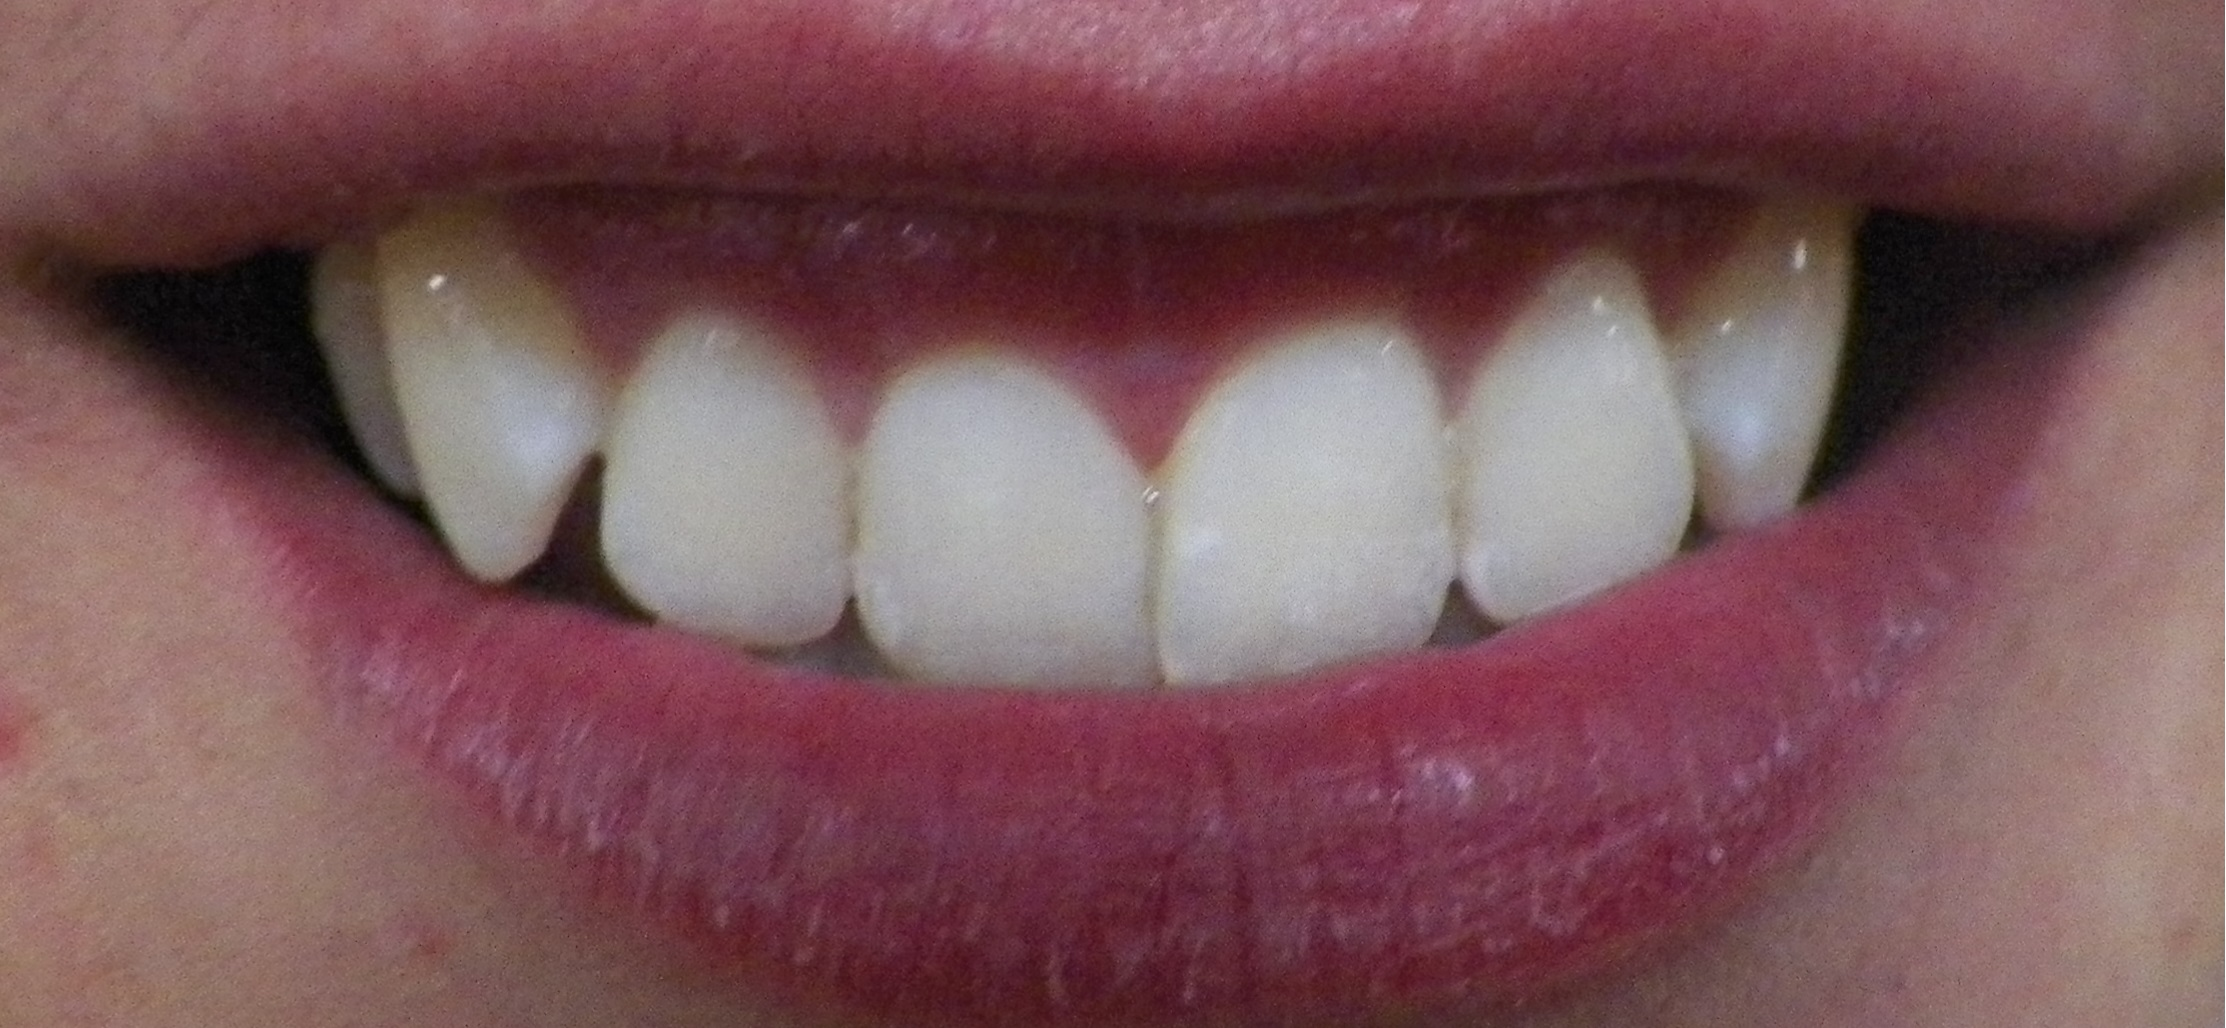boca: (295, 207, 1887, 672)
